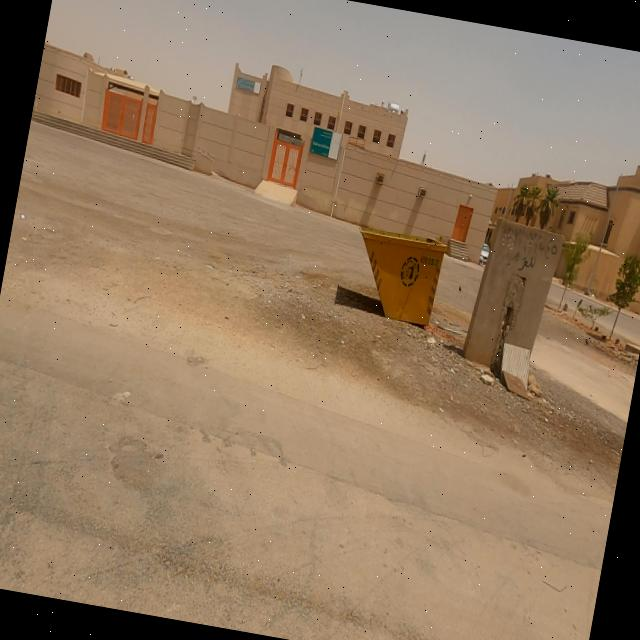Graffiti: (495, 223, 562, 277)
